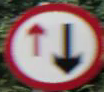Two way: (6, 11, 87, 80)
